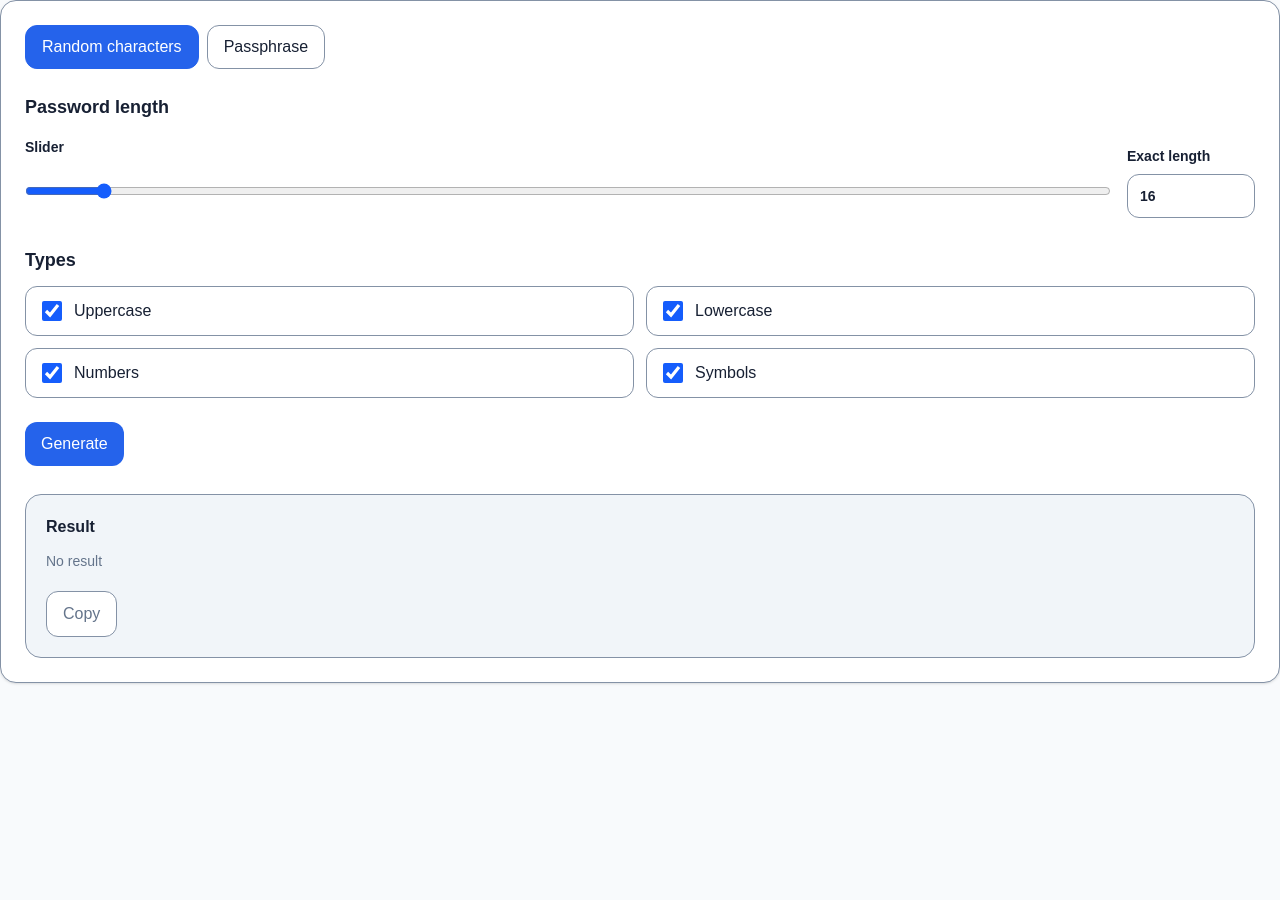
Test: PasswordGenerator › handles all character types disabled and recovers immediately
Click the checkbox labelled "Uppercase" at (52, 311), box [42,301,62,321]
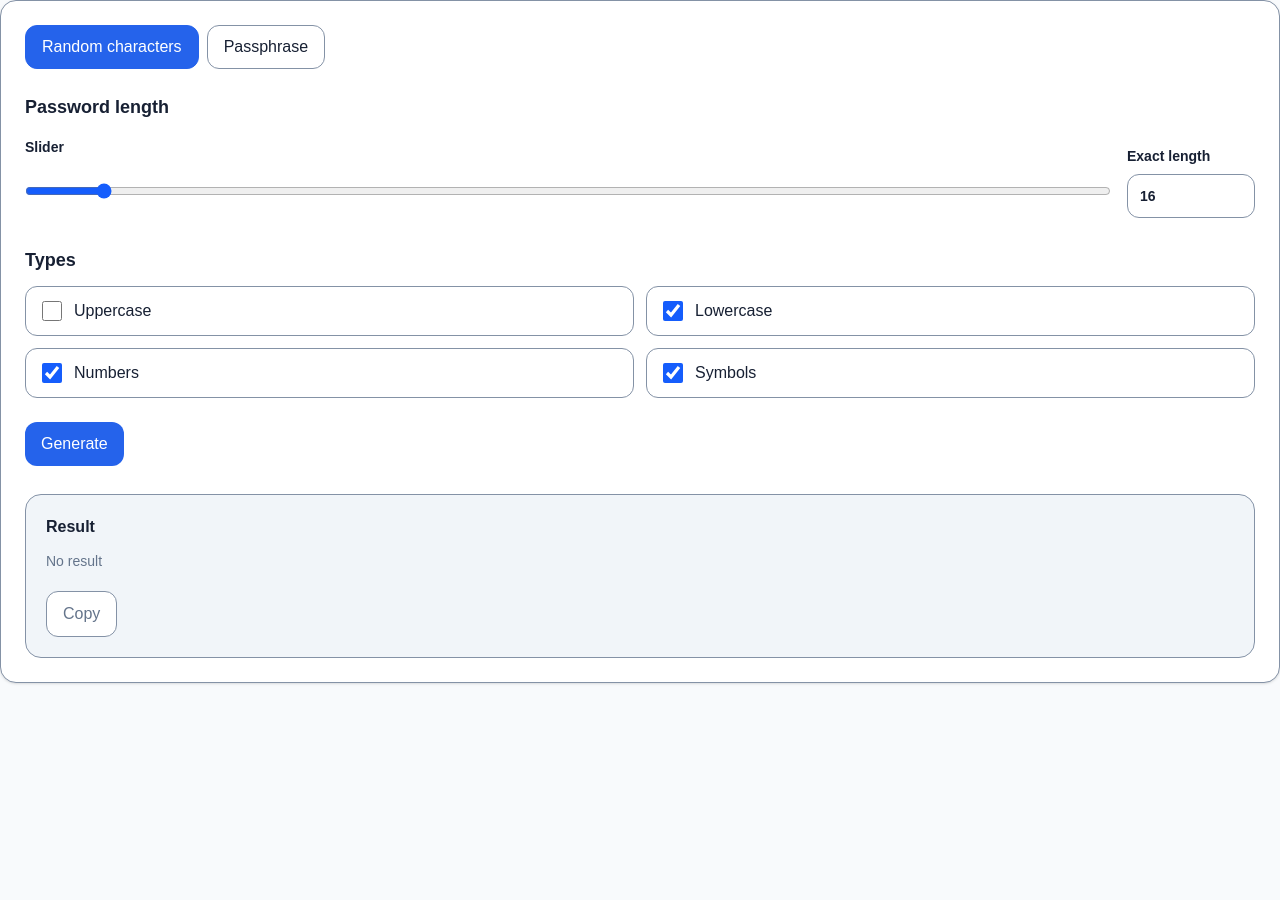
Click the checkbox labelled "Lowercase" at (673, 311), box [663,301,683,321]
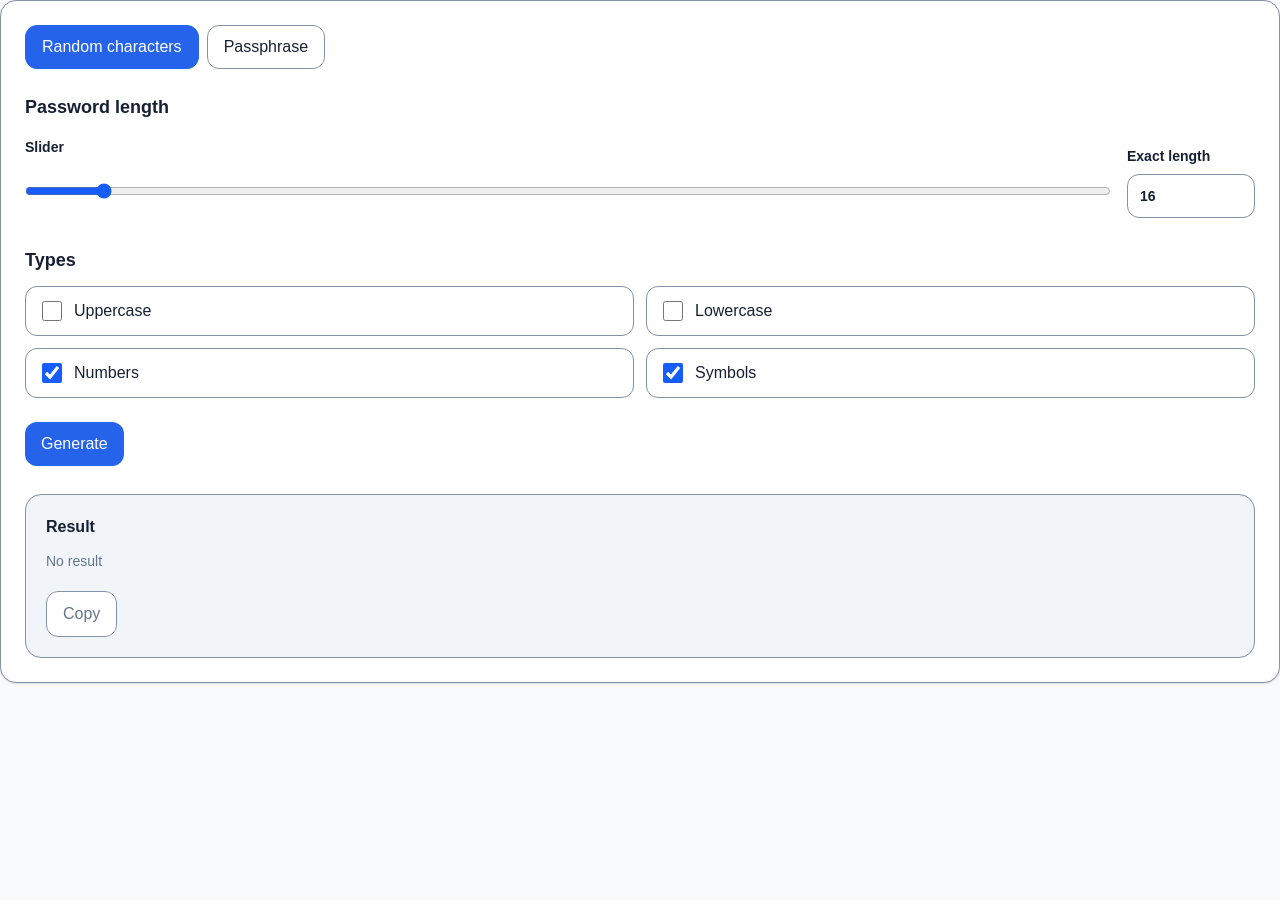
Click the checkbox labelled "Numbers" at (52, 373), box [42,363,62,383]
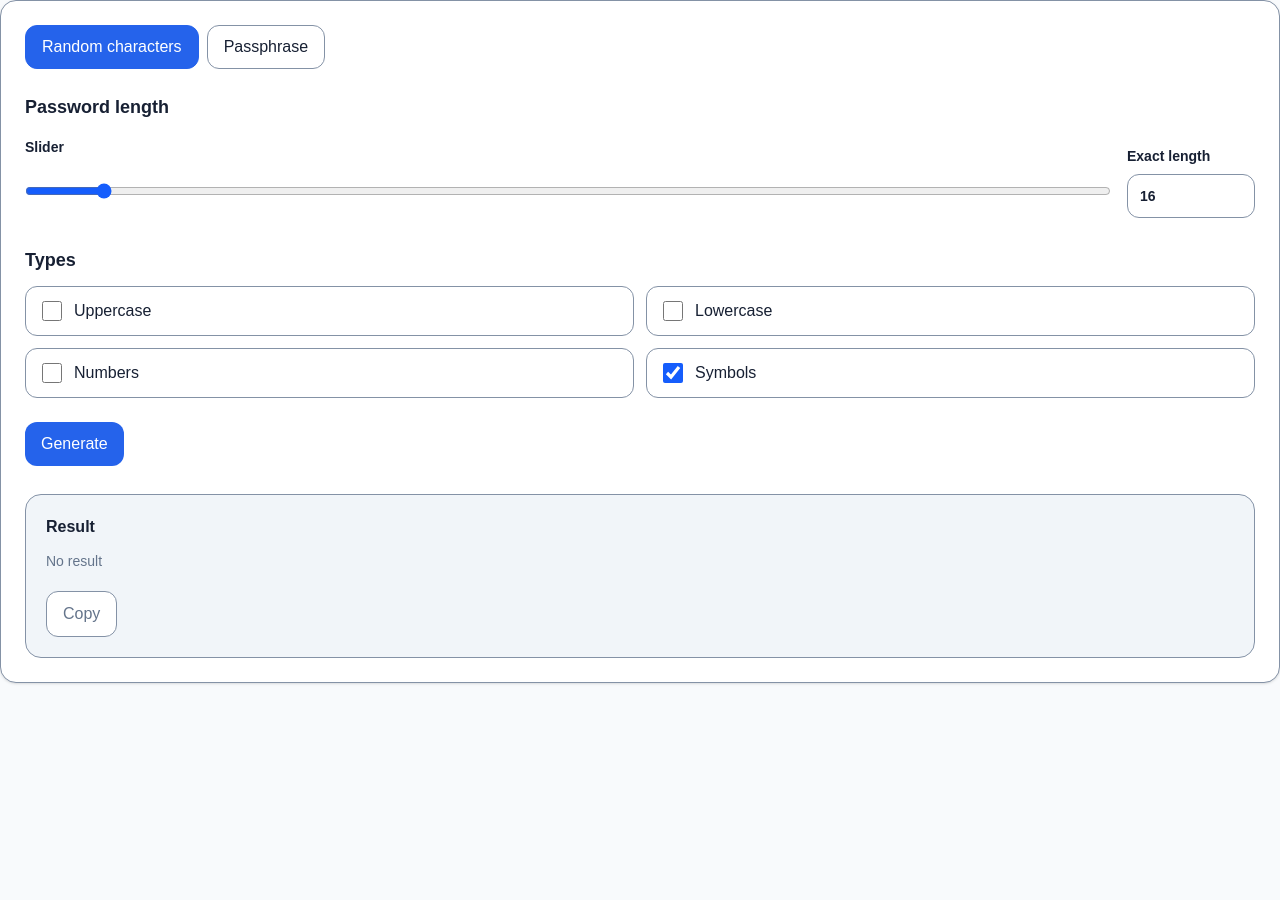
Click the checkbox labelled "Symbols" at (673, 373), box [663,363,683,383]
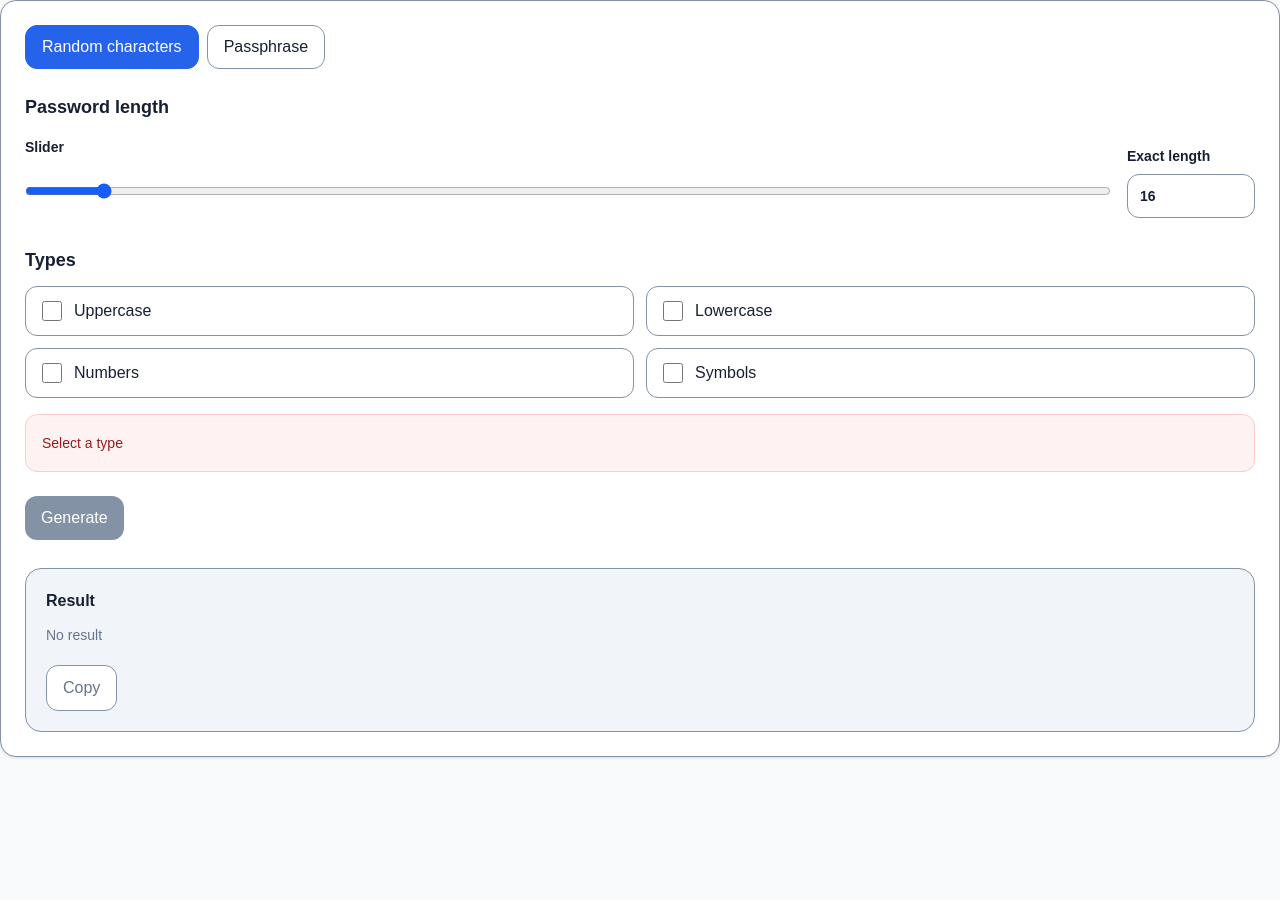
Check: the message reads "Select a type", box [42,435,123,451]
Check: the button "Generate" is disabled, box [25,496,124,540]
Click the checkbox labelled "Numbers" at (52, 373), box [42,363,62,383]
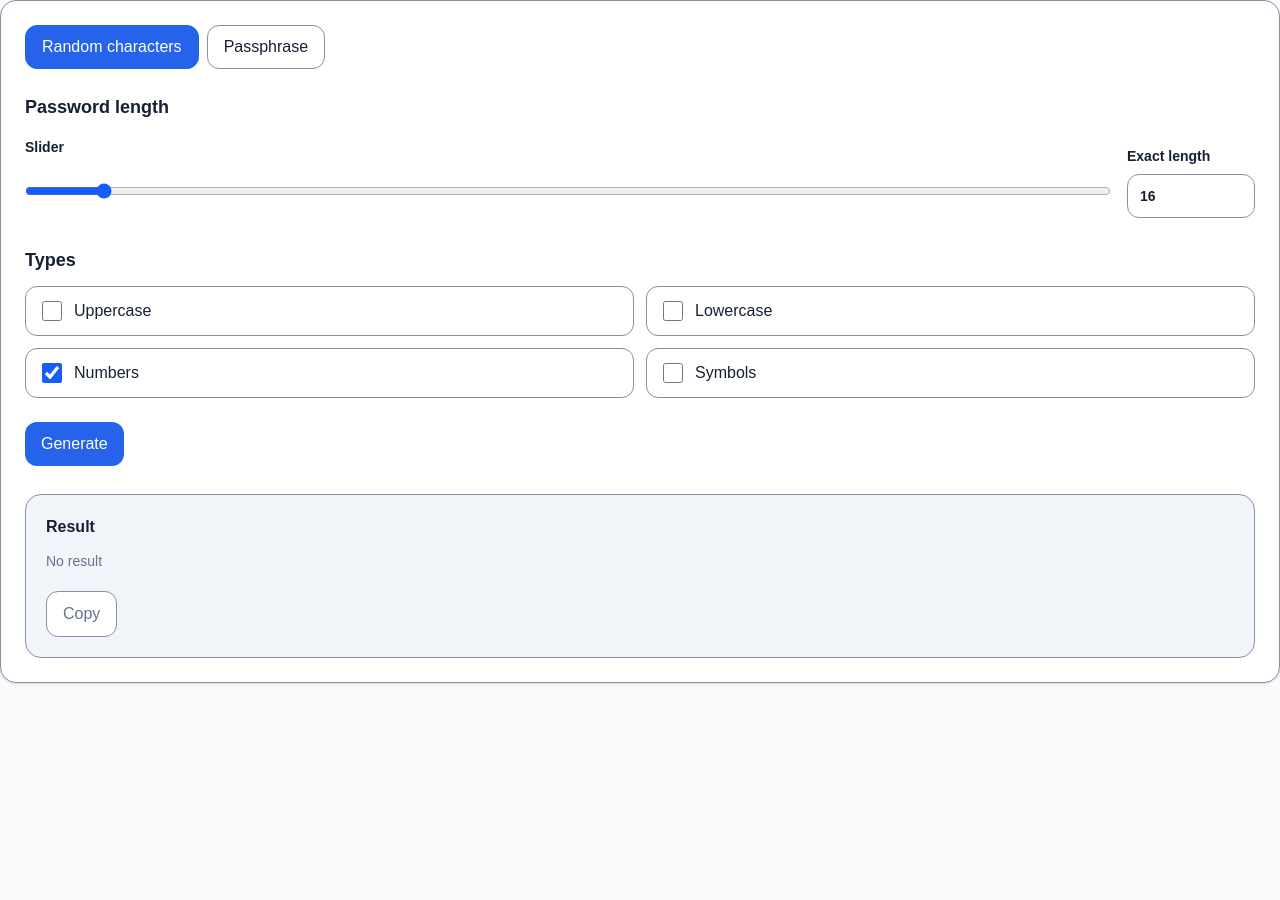
Check: the message "Select a type" is gone
Check: the button "Generate" is enabled, box [25,422,124,466]
